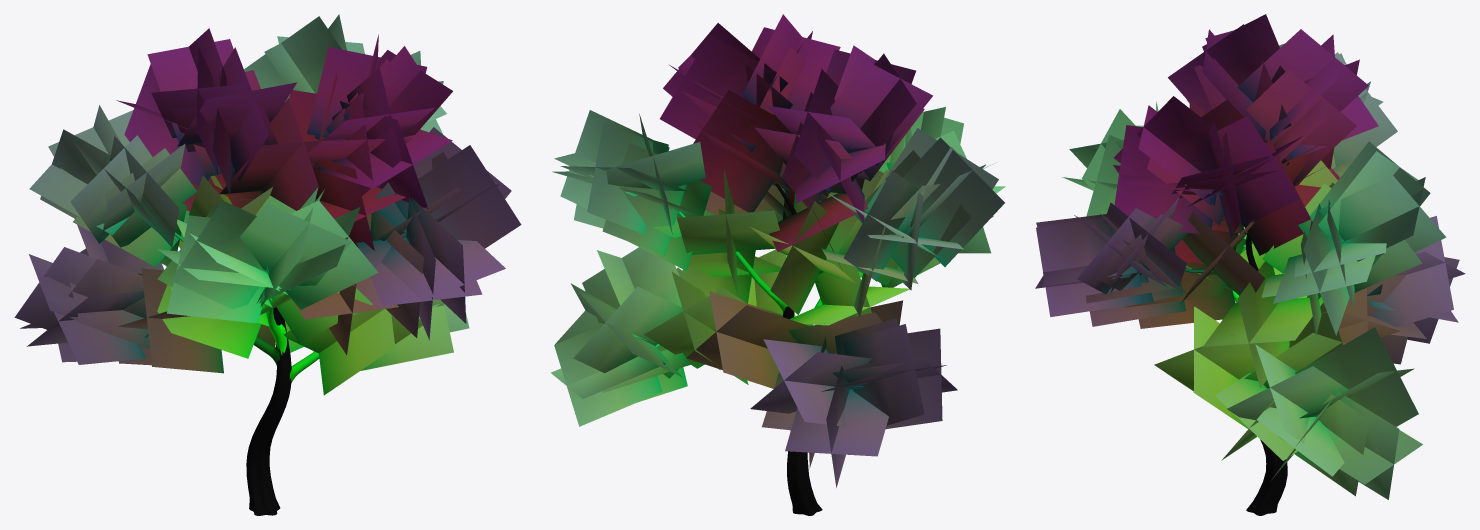
Rendered from URP_Tree_3_LOD_0.fbx.
The picture shows the model from 3 angles, left to right: view 1: azimuth 30°, elevation 25°; view 2: azimuth 150°, elevation 25°; view 3: azimuth 270°, elevation 25°; orthographic projection. The views are drawn at different scales.
Parts seen in each view (by area): view 1: Tree_3_LOD_0; view 2: Tree_3_LOD_0; view 3: Tree_3_LOD_0.
Part boxes in pixels (<box>): Tree_3_LOD_0: <box>14,14,521,515</box>; Tree_3_LOD_0: <box>550,14,1005,515</box>; Tree_3_LOD_0: <box>1035,14,1465,515</box>.
Bounding box in the file's own units: 530 × 576 × 482.
